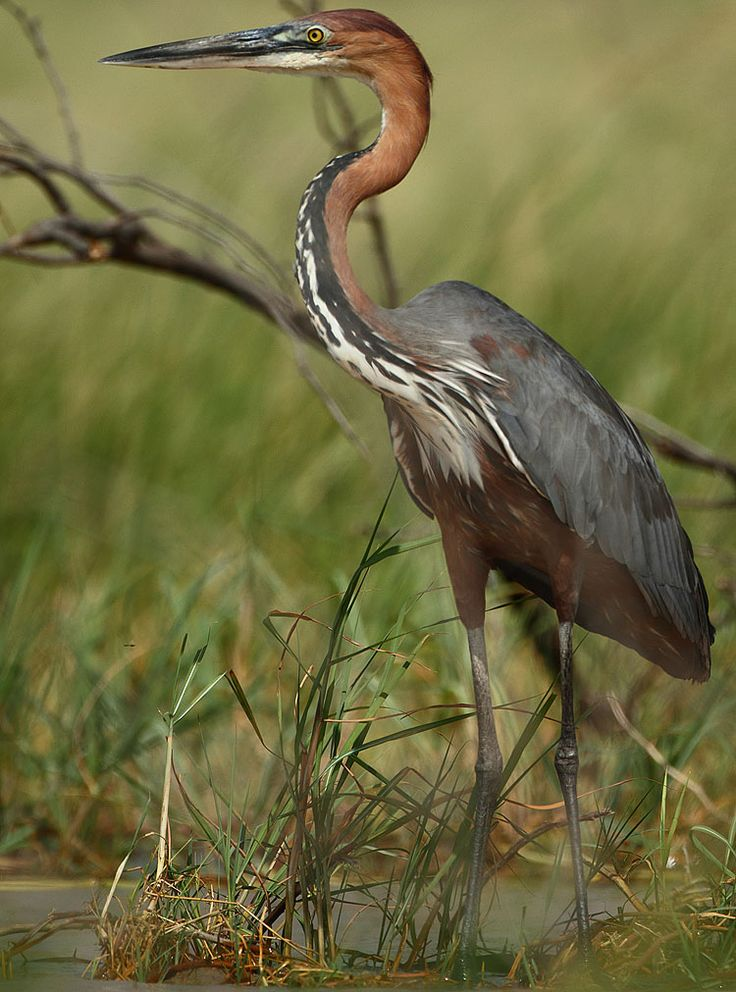heron: (96, 5, 712, 894)
